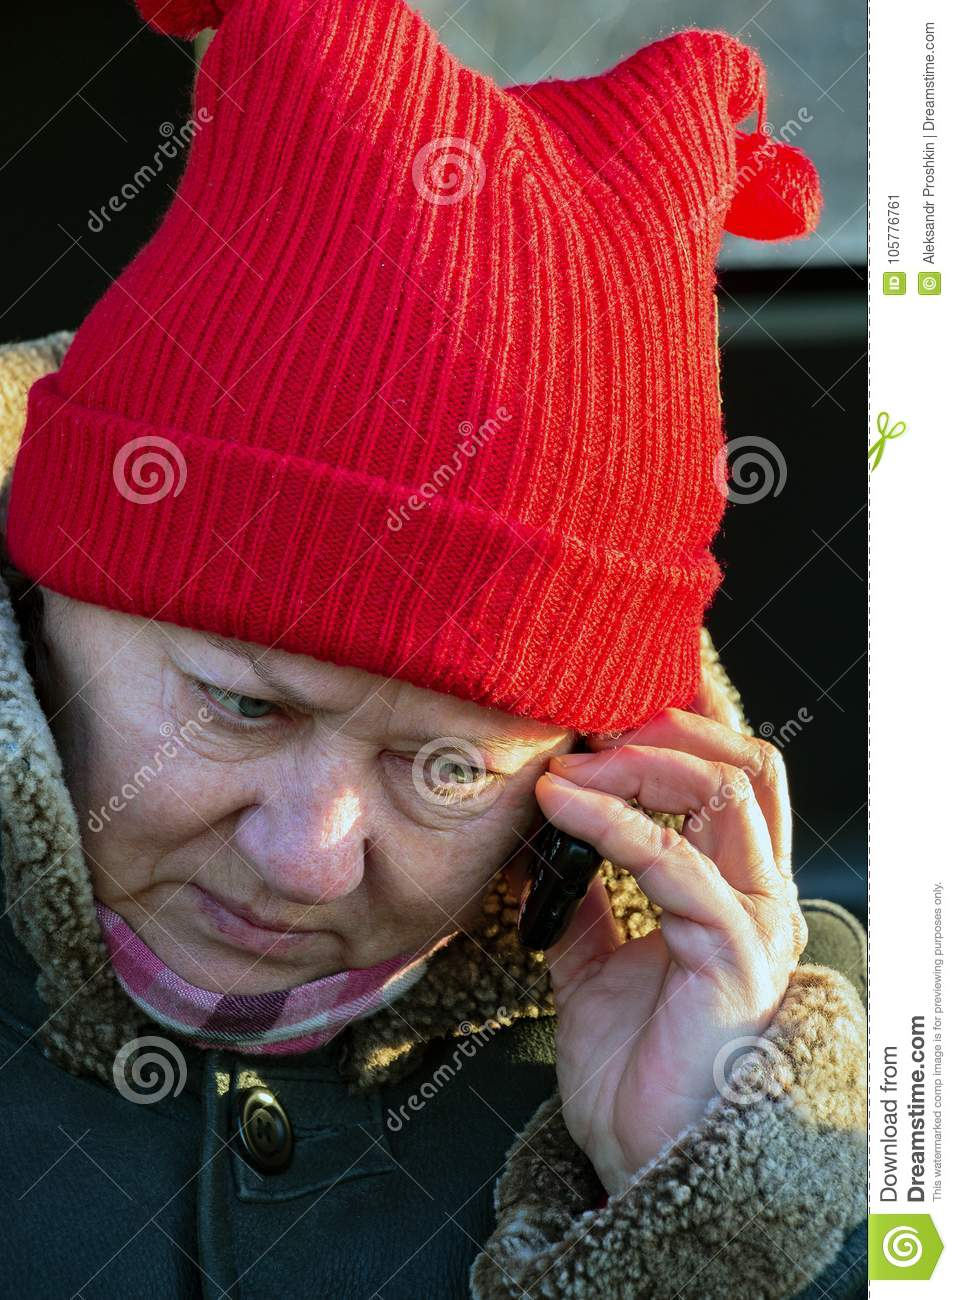phone: (517, 724, 621, 956)
talk: (71, 633, 809, 1177)
